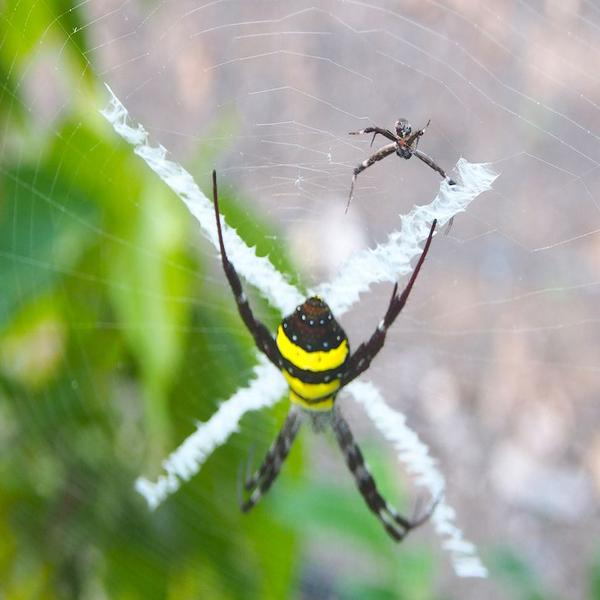St Andrew's Cross Spider: (212, 170, 436, 539)
